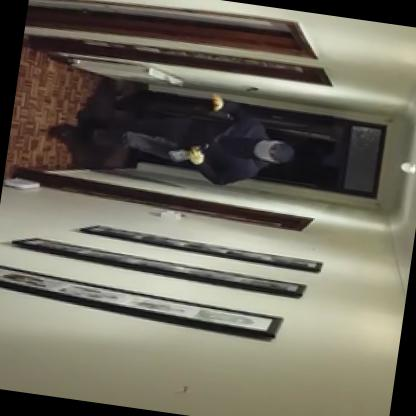Human Body: (71, 74, 304, 202)
